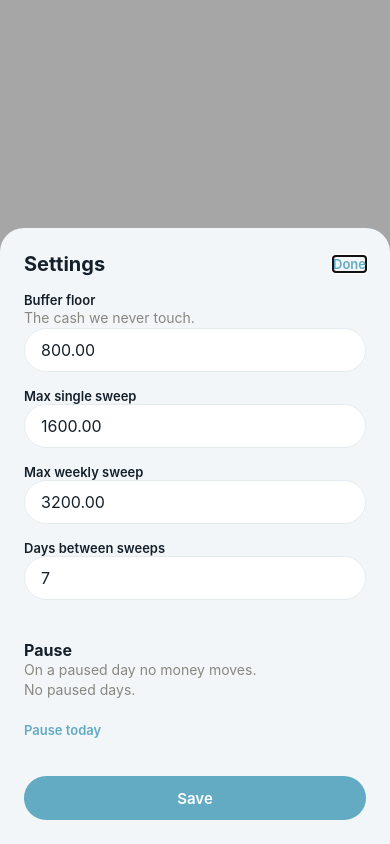
the settings screen › tells a viewer they don’t have permission
What coordinates should you click on to do the following:
click the button with test id "settings-save"
I would click on:
 (195, 798)
Its box is [24,776,366,820].
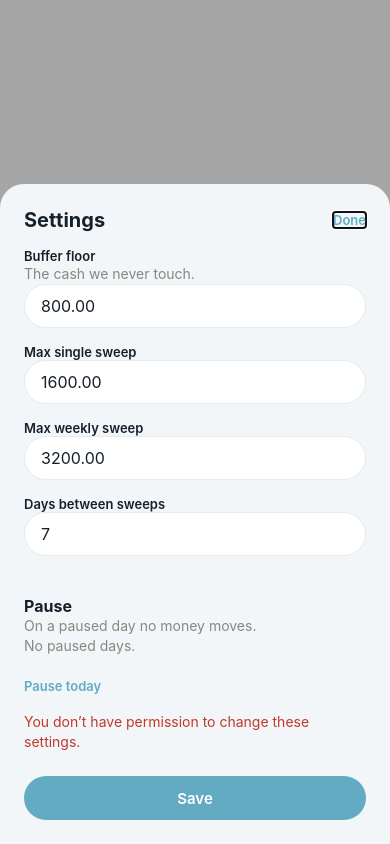
Now the text "You don’t have permission to change these settings." is shown, box [24,713,313,750]
